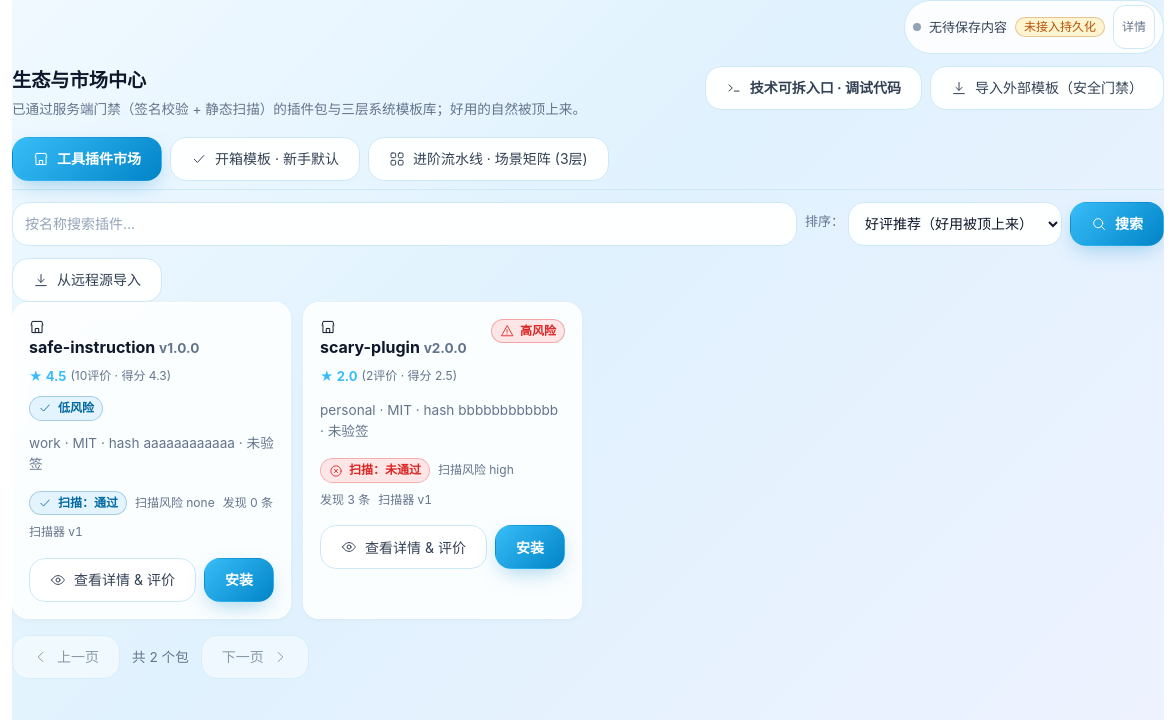
PluginMarketPage 模板分层与一级技术入口 (A-开箱模板-04 🔒 GATE) › 顶栏常驻一级可见技术入口，点击直达技术层
This screenshot has width=1176, height=720.
Click the button with test id "first-class-tech-entry" at {"x": 813, "y": 88}, box [705,66,922,110]
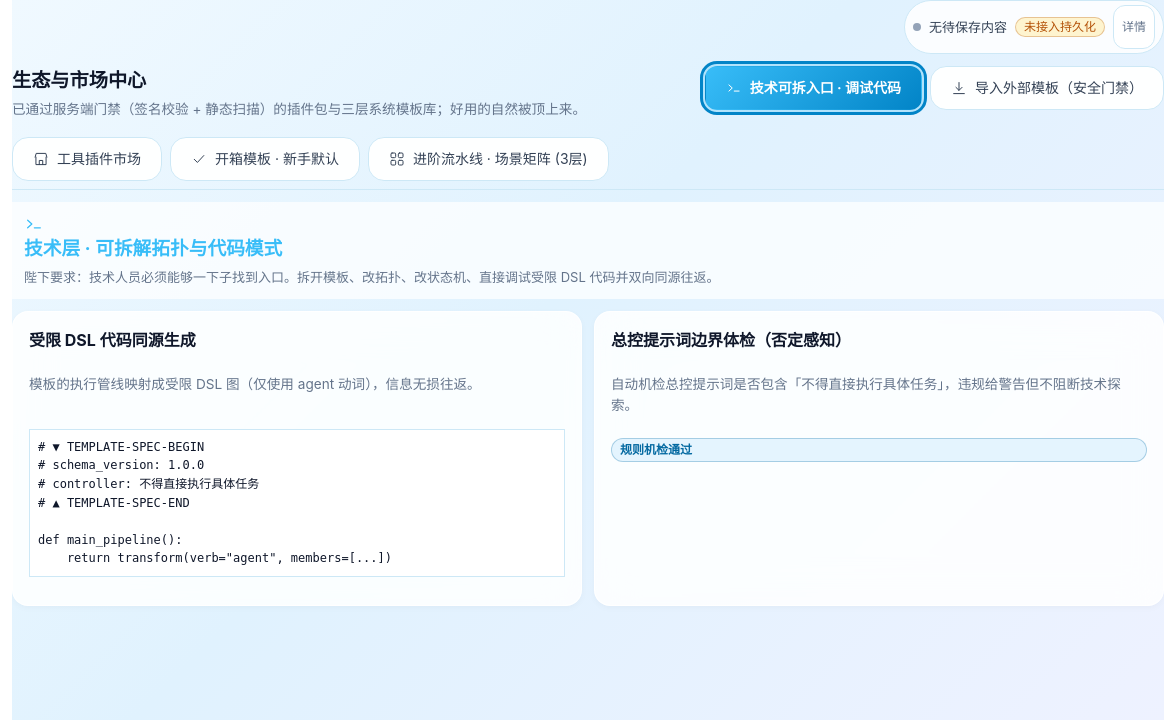
Now the element with test id "technical-template-view" is shown, box [12,202,1164,606]
Now the heading "技术层 · 可拆解拓扑与代码模式" is shown, box [24,214,282,260]
Now the text "受限 DSL 代码同源生成" is shown, box [29,330,196,350]
